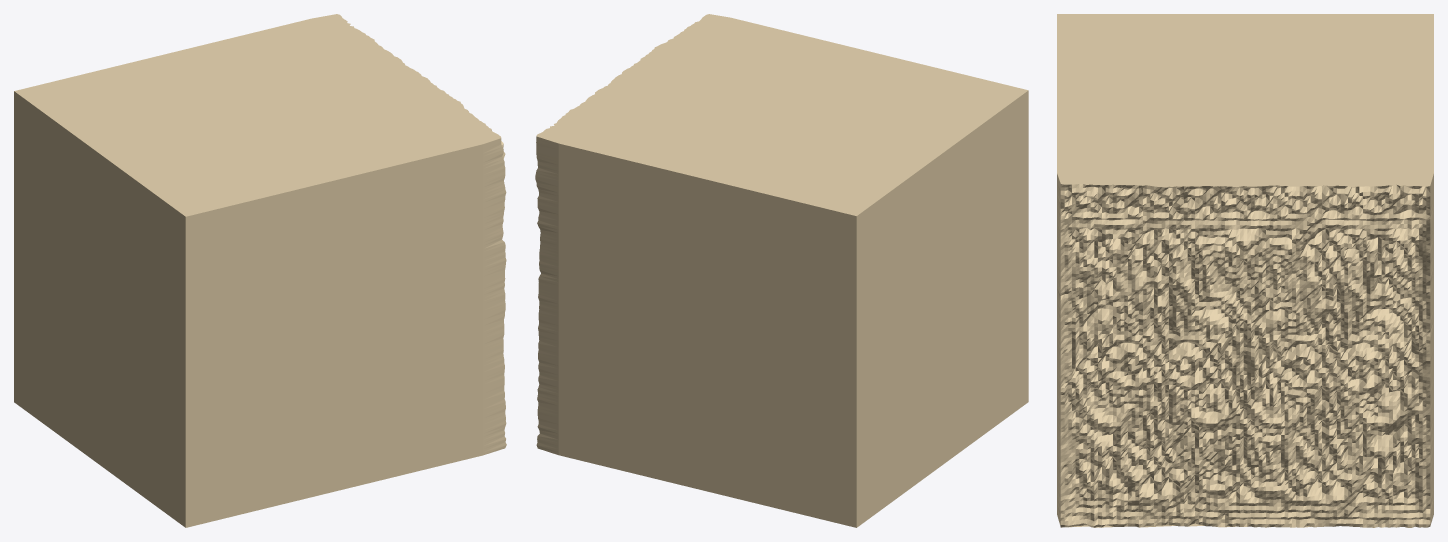
The model's file is top1.png 1.obj.
The picture shows the model from 3 angles, left to right: view 1: azimuth 30°, elevation 25°; view 2: azimuth 150°, elevation 25°; view 3: azimuth 270°, elevation 25°; orthographic projection. The views are drawn at different scales.
Parts seen in each view (by area): view 1: Cube; view 2: Cube; view 3: Cube.
Part boxes in pixels (x1,y1,x2,y2): Cube: (14, 14, 506, 527); Cube: (535, 14, 1028, 527); Cube: (1057, 14, 1433, 527).
Bounding box in the file's own units: 1.09 × 1 × 1.
